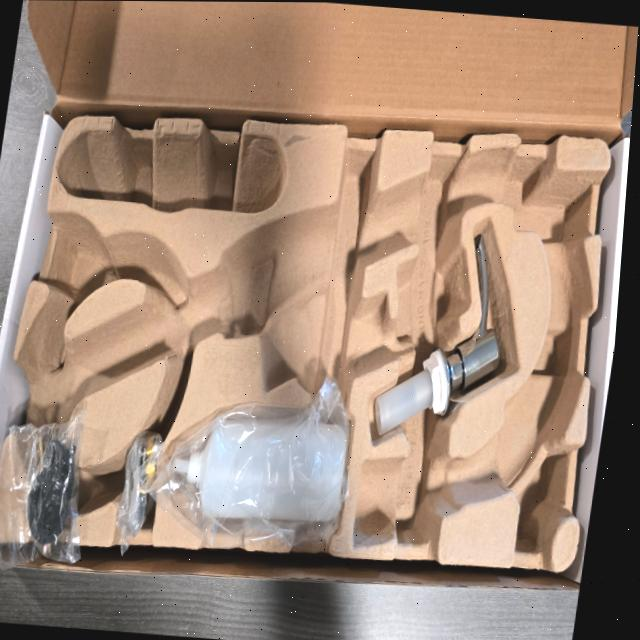1m: (3, 148, 590, 545)
2: (373, 235, 499, 432)
3: (167, 417, 347, 523)
4m: (54, 131, 286, 213)
5m: (54, 211, 110, 289)
6: (115, 429, 160, 536)
7: (0, 408, 83, 567)
